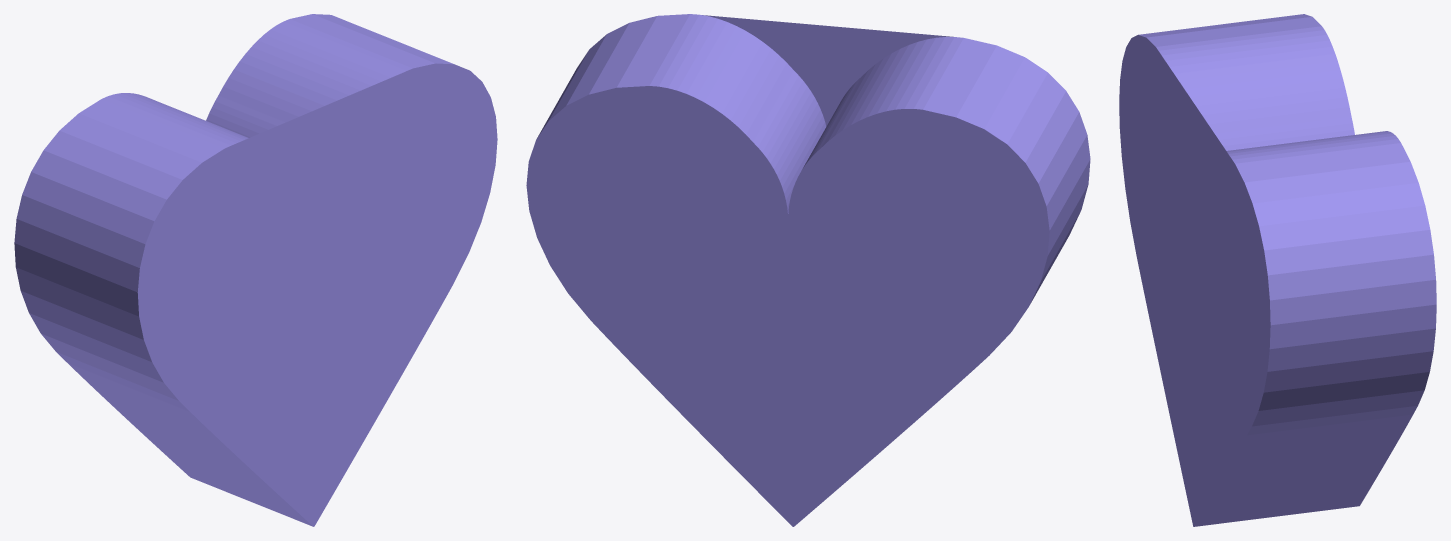
File: 021_Candy_Heart_01.fbx
The picture shows the model from 3 angles, left to right: view 1: azimuth 30°, elevation 25°; view 2: azimuth 150°, elevation 25°; view 3: azimuth 270°, elevation 25°; orthographic projection. The views are drawn at different scales.
Visible parts, largest first — view 1: heart.002; view 2: heart.002; view 3: heart.002.
Part boxes in pixels (x1,y1,x2,y2): heart.002: (14, 14, 497, 526); heart.002: (526, 14, 1090, 526); heart.002: (1119, 14, 1436, 526).
Size of the model in its own units: 143 by 120 by 81.15.
